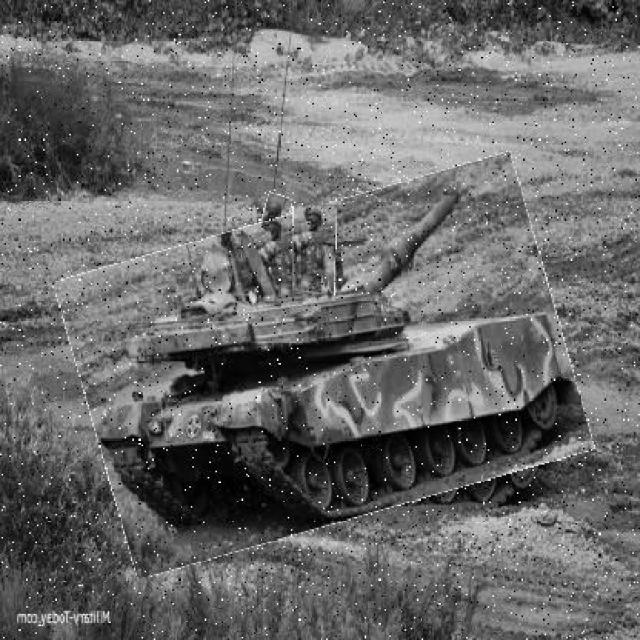Person: (293, 204, 338, 296), (250, 195, 287, 281)
Tank: (71, 183, 580, 550)
